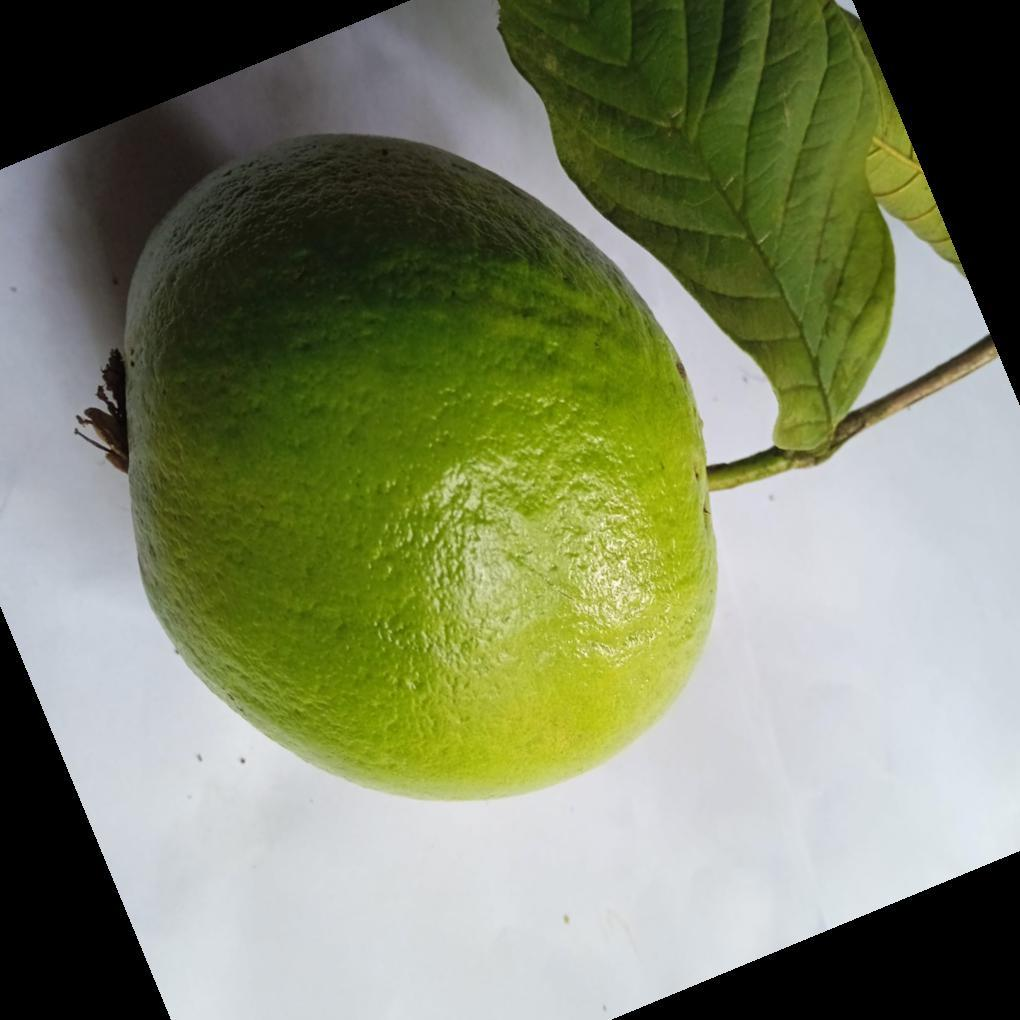FreshGuava: (102, 134, 720, 807)
